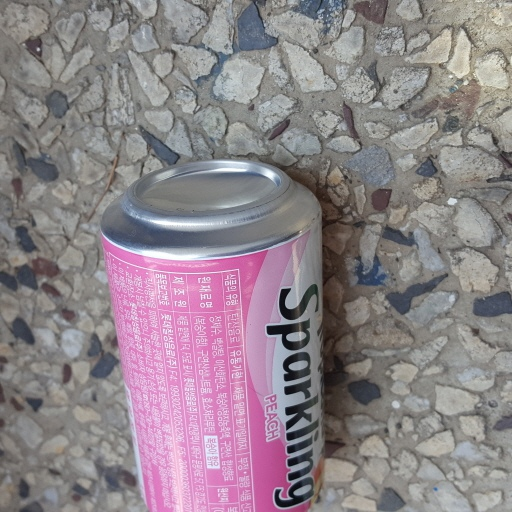Metal_0: (99, 157, 325, 512)
